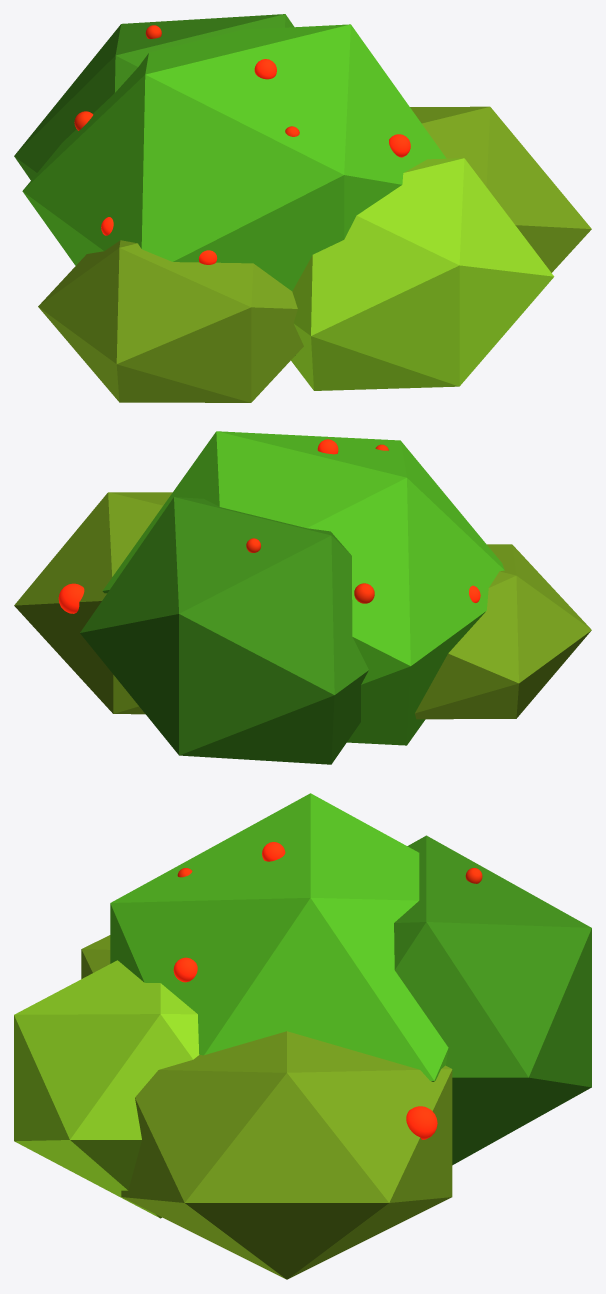
The model's file is BerryBush_LowPoly.fbx.
3 renders of one model, top to bottom at view 1: azimuth 30°, elevation 25°; view 2: azimuth 150°, elevation 25°; view 3: azimuth 270°, elevation 25°, orthographic. The views are drawn at different scales.
Visible parts, largest first — view 1: Shrub1, Shrub4, Shrub3, Shrub2, Shrub5, berrys; view 2: Shrub5, Shrub1, Shrub3, Shrub2, berrys; view 3: Shrub2, Shrub1, Shrub5, Shrub4, berrys, Shrub3.
Part boxes in pixels (x1,y1,x2,y2): Shrub1: (22,24,446,355); Shrub4: (291,158,554,390); Shrub3: (38,240,303,402); Shrub2: (410,106,591,272); Shrub5: (14,14,294,179); berrys: (74,25,410,264); Shrub5: (80,497,368,764); Shrub1: (102,431,504,745); Shrub3: (415,544,591,719); Shrub2: (14,492,172,714); berrys: (58,439,480,613); Shrub2: (121,1031,452,1279); Shrub1: (110,793,448,1081); Shrub5: (394,835,591,1165); Shrub4: (14,960,199,1218); berrys: (173,842,482,1139); Shrub3: (81,935,110,978).
Size of the model in its own units: 256 by 150 by 245.
